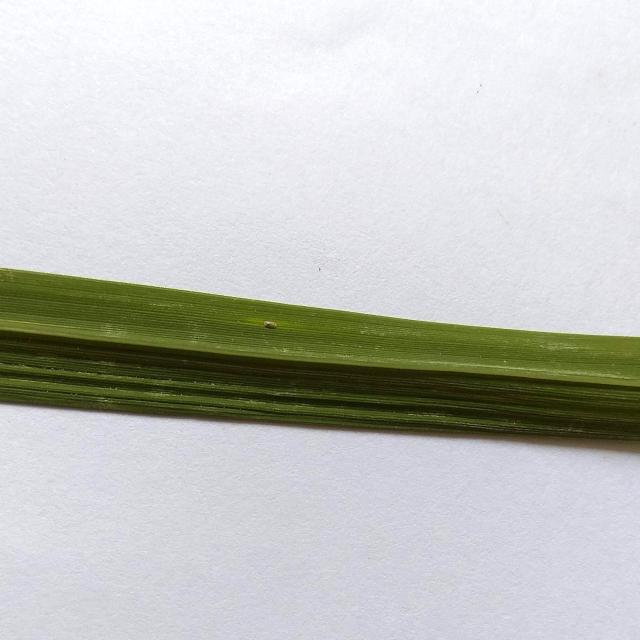Rice_Healthy: (0, 268, 640, 440)
